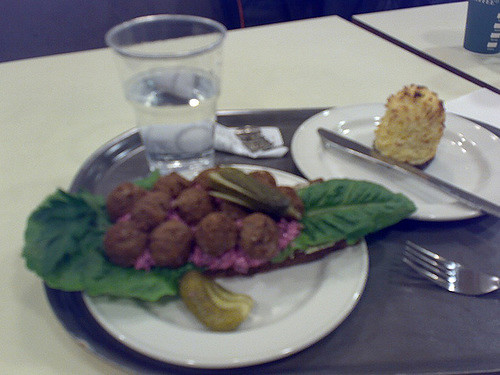glass of water: (106, 16, 224, 173)
meatballs: (112, 181, 244, 251)
